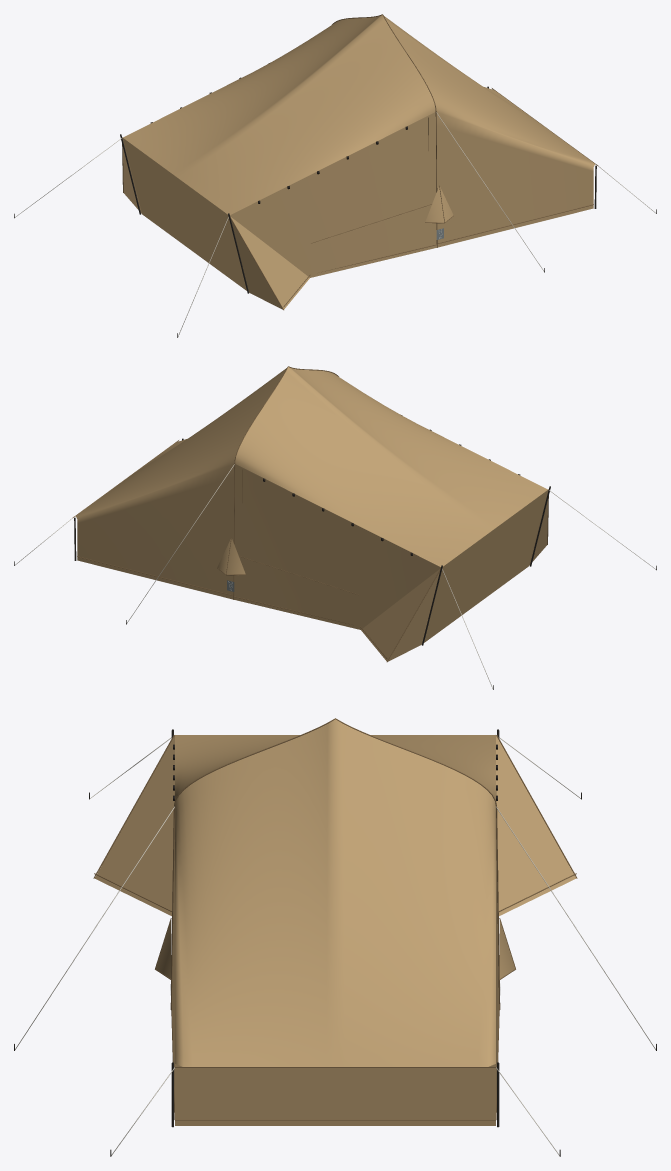
The model's file is dod-airbone.glb.
3 renders of one model, top to bottom at view 1: azimuth 30°, elevation 25°; view 2: azimuth 150°, elevation 25°; view 3: azimuth 270°, elevation 25°, orthographic. The views are drawn at different scales.
Visible parts, largest first — view 1: dod-airbone-canvas, dod-airbone-seam, dod-airbone-rope, dod-airbone-pole; view 2: dod-airbone-canvas, dod-airbone-seam, dod-airbone-rope, dod-airbone-pole; view 3: dod-airbone-canvas, dod-airbone-seam, dod-airbone-rope.
Boxes of the visible parts, box(x1,y1,x2,y2) form: dod-airbone-canvas: box(122, 15, 595, 309); dod-airbone-seam: box(122, 14, 598, 310); dod-airbone-rope: box(14, 89, 655, 336); dod-airbone-pole: box(14, 86, 656, 337); dod-airbone-canvas: box(75, 367, 548, 661); dod-airbone-seam: box(72, 366, 548, 662); dod-airbone-rope: box(15, 441, 656, 688); dod-airbone-pole: box(14, 438, 656, 689); dod-airbone-canvas: box(94, 719, 576, 1125); dod-airbone-seam: box(93, 718, 577, 1120); dod-airbone-rope: box(15, 735, 655, 1155).
Bounding box in the file's own units: 7.91 × 3.01 × 6.01.
